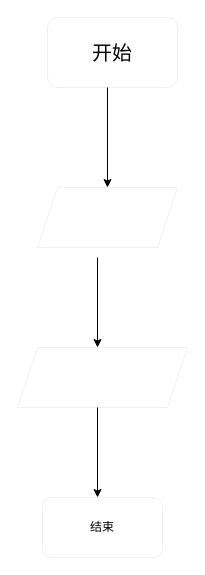
This 205x575 diagram has some shape labels left out. Each missing label, with the centre of its shape:
"输入 name" belongs at (x=107, y=217).
"输出 你好，name!" belongs at (x=102, y=377).
